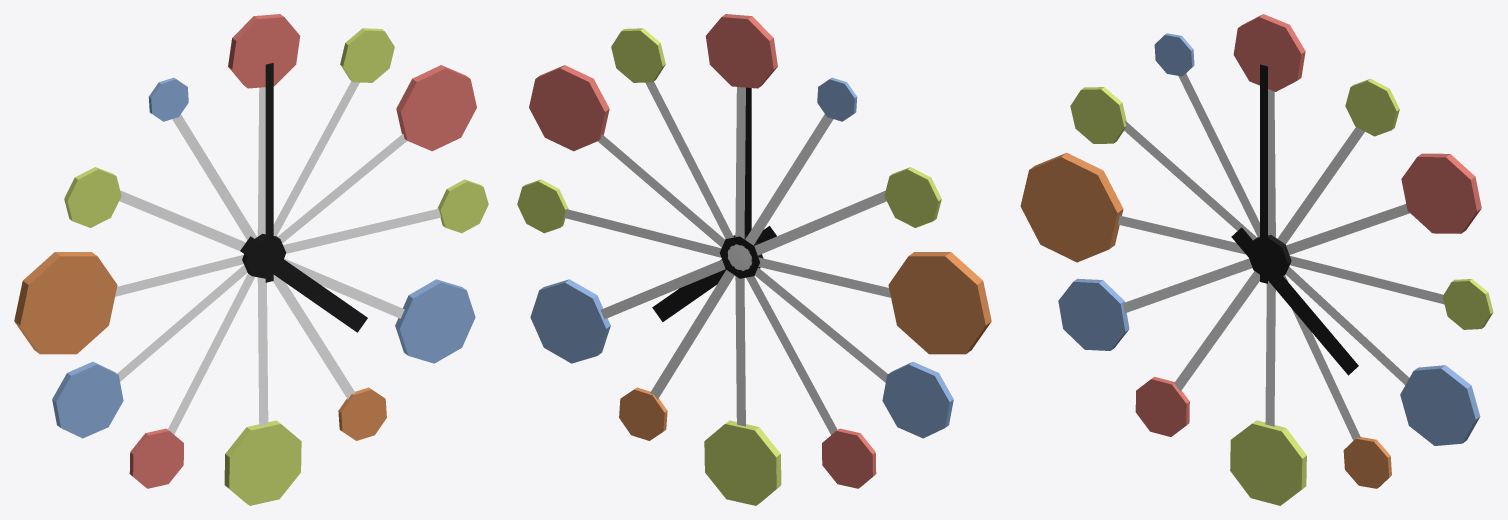
The model's file is clock.fbx.
3 renders of one model, left to right at view 1: azimuth 30°, elevation 25°; view 2: azimuth 150°, elevation 25°; view 3: azimuth 330°, elevation 25°, orthographic.
Visible parts, largest first — view 1: clock.001; view 2: clock.001; view 3: clock.001.
Part boxes in pixels (bbox=[...]): clock.001: bbox=[14, 14, 488, 505]; clock.001: bbox=[517, 14, 991, 505]; clock.001: bbox=[1020, 14, 1493, 505].
Size of the model in its own units: 201 by 199 by 7.52.
